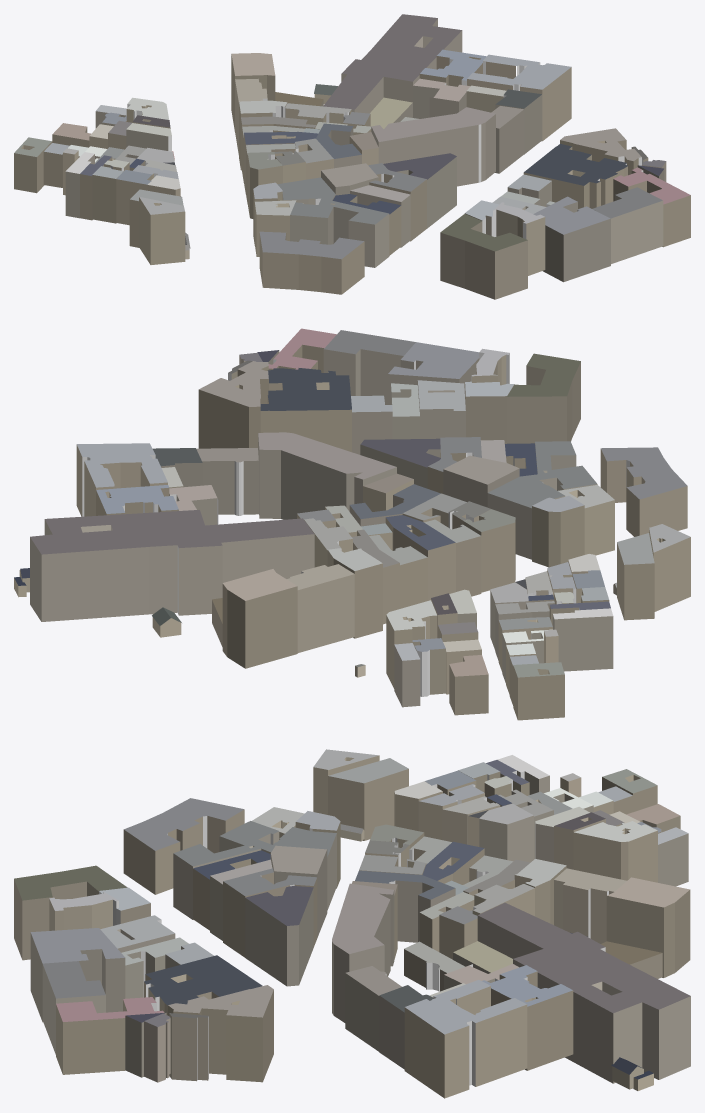
3 views of the same model, one above another, from view 1: azimuth 30°, elevation 25°; view 2: azimuth 150°, elevation 25°; view 3: azimuth 270°, elevation 25° (orthographic). The views are drawn at different scales.
Parts seen in each view (by area): view 1: tuile; view 2: tuile; view 3: tuile.
Boxes of the visible parts, x1,y1,x2,y2 form: tuile: (14, 14, 690, 299); tuile: (14, 328, 690, 720); tuile: (14, 749, 690, 1098).
Size of the model in its own units: 279 by 40 by 273.
